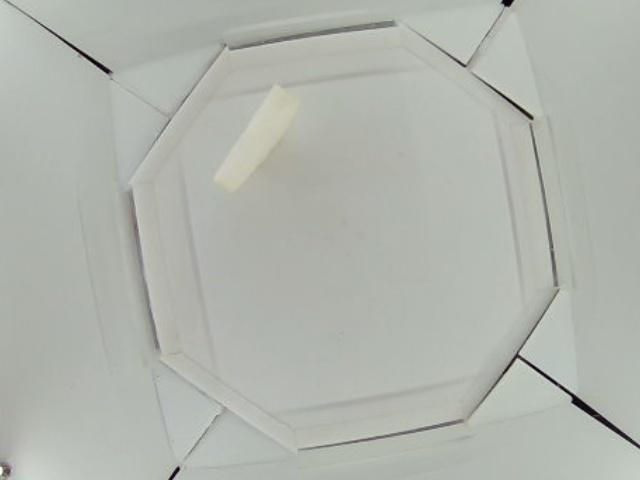Mooli: (211, 82, 301, 195)
